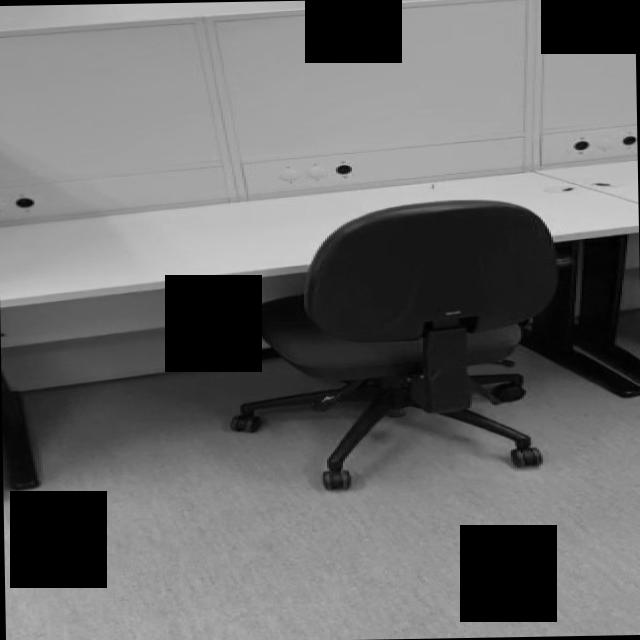cadeira-azul: (204, 198, 560, 492)
